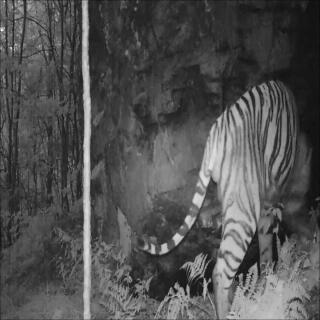Tiger: (136, 66, 314, 320)
